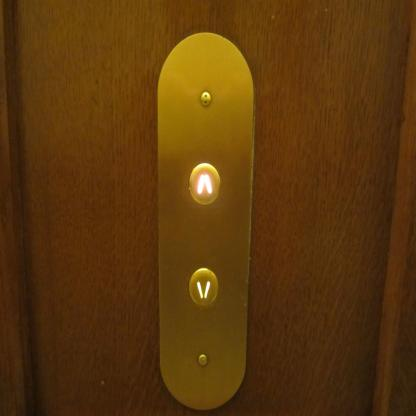down: (184, 265, 221, 312)
up: (186, 159, 222, 208)
